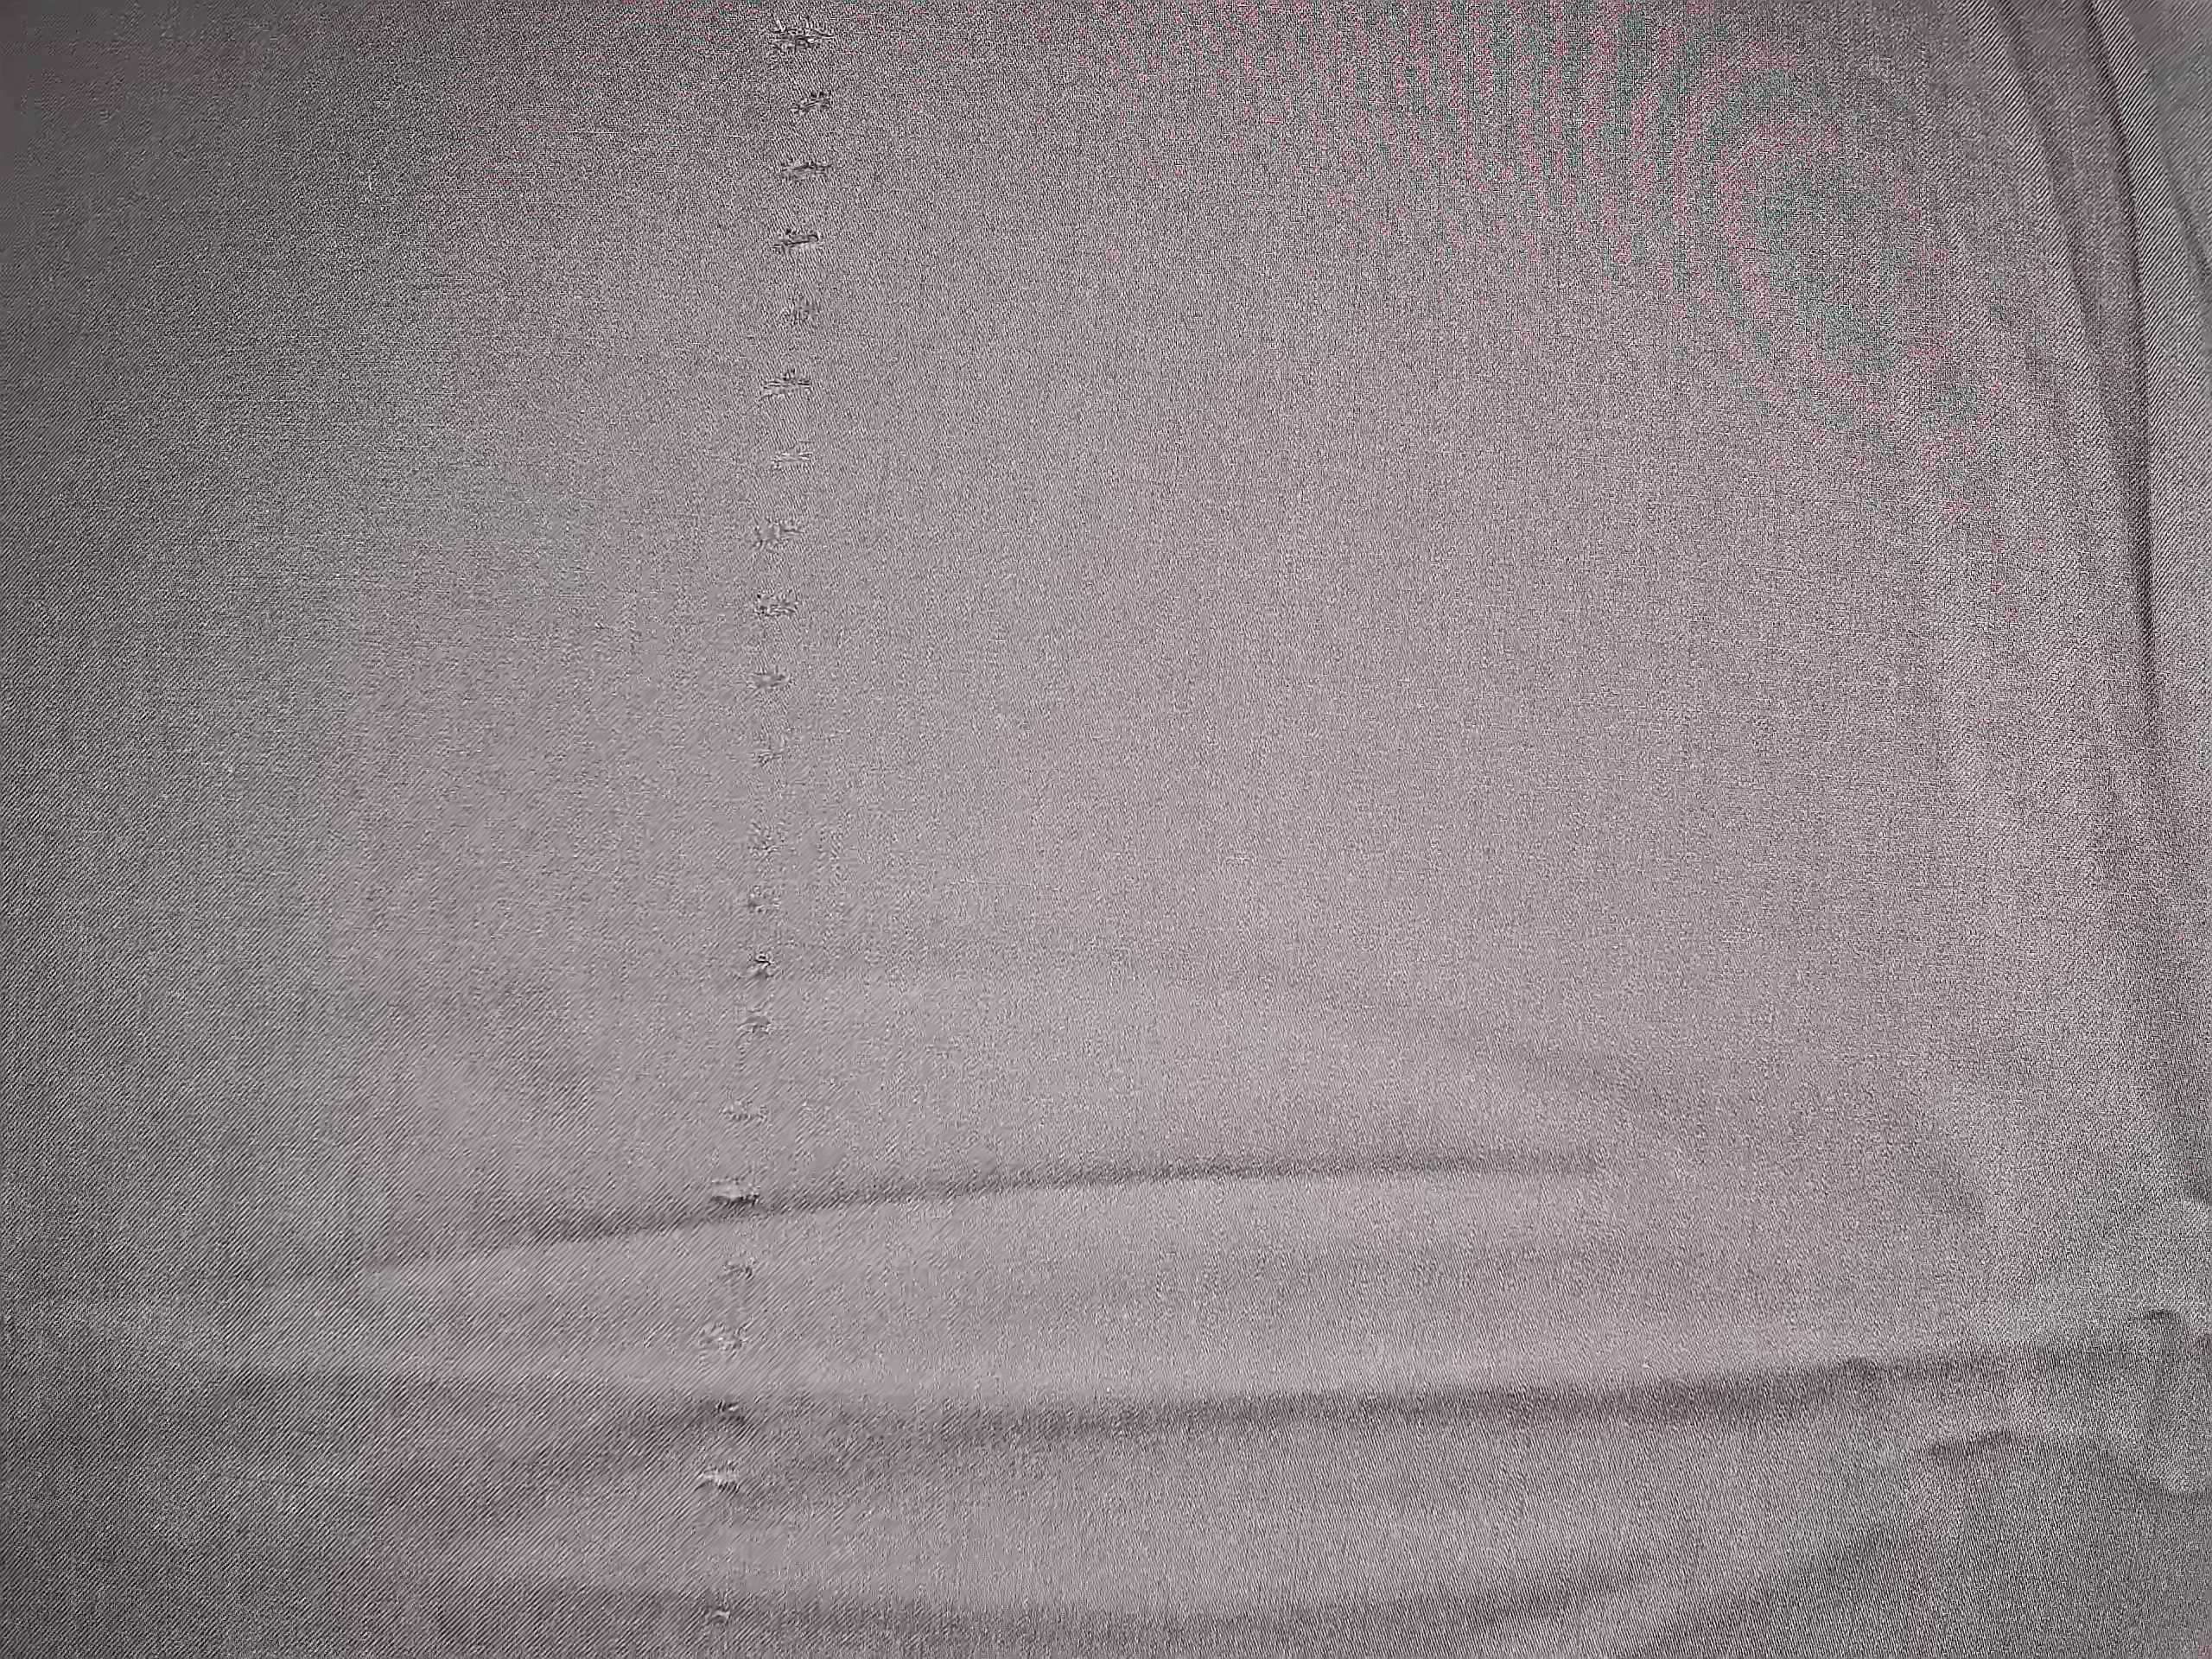puncture-hole: (683, 17, 860, 1642)
